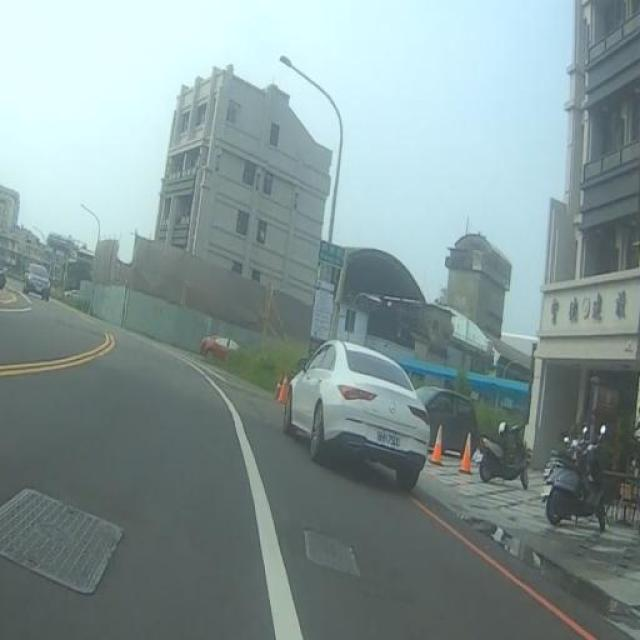Legalparking: (274, 338, 442, 508)
illegalparking: (425, 370, 640, 540)
